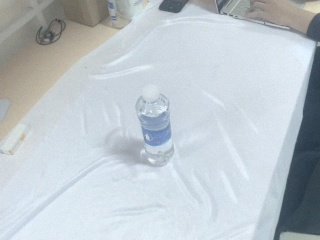bottle: (134, 84, 175, 168)
box: (60, 1, 111, 29)
phone: (158, 1, 189, 14)
